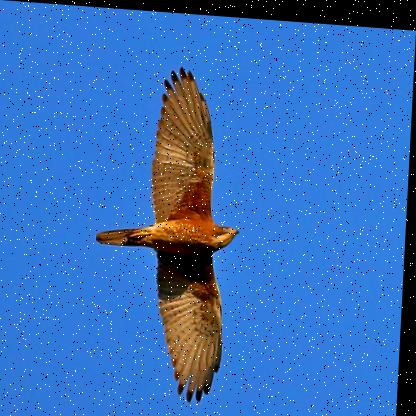Burung: (90, 61, 247, 402)
